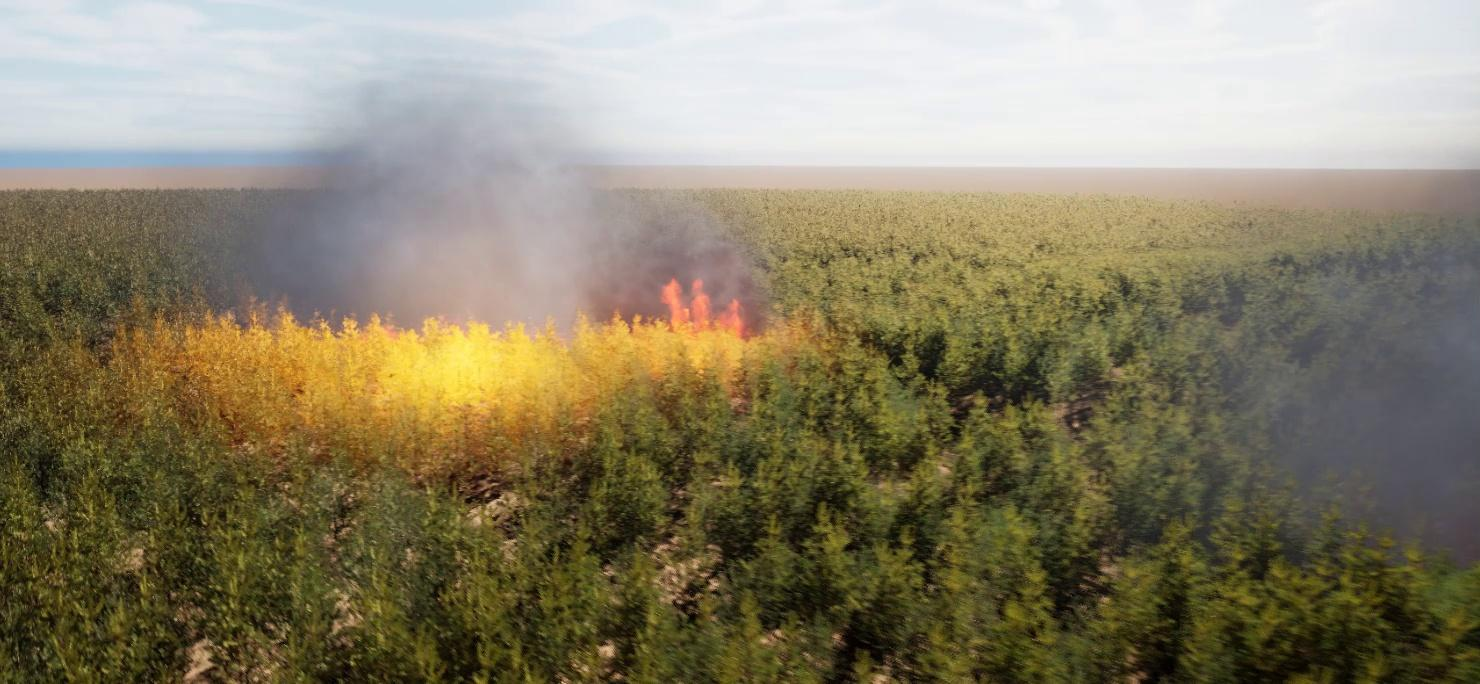fire: (183, 315, 789, 385), (661, 278, 754, 328)
smoke: (194, 51, 761, 336), (1141, 245, 1479, 570)
